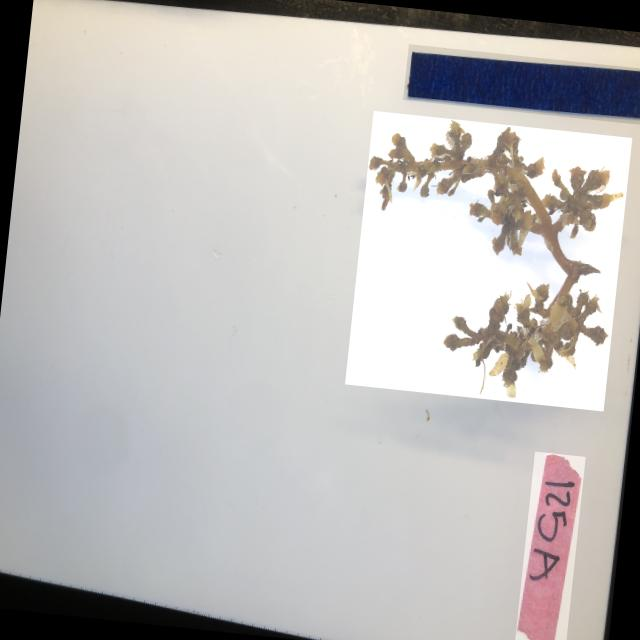index: (512, 450, 584, 640)
measure_label: (401, 44, 640, 125)
rachis_cluster: (343, 110, 630, 411)
